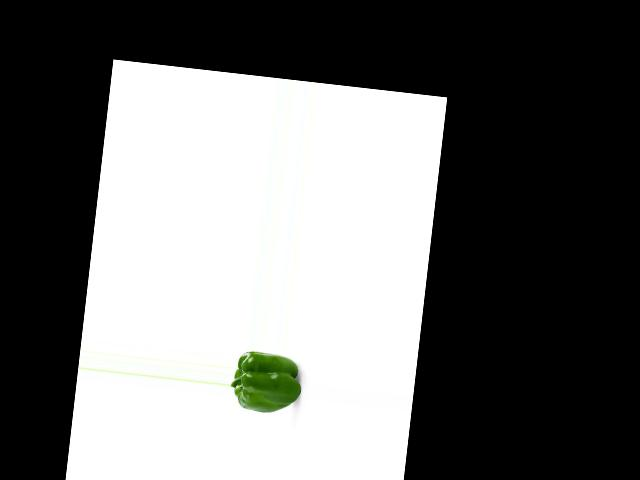bell_pepper: (229, 348, 302, 417)
